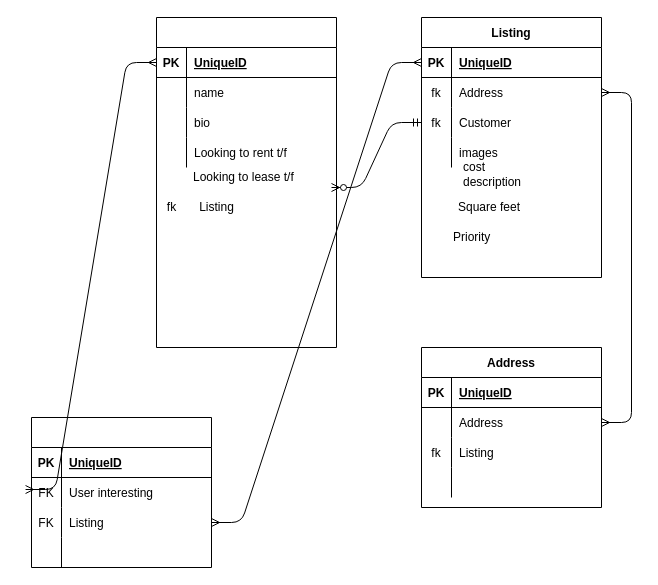
Image size: 658x585. Some labels were removed from this diagram. Each missing label, with the box of its shape:
Interested in renting: (30, 416, 212, 568)
User: (156, 16, 336, 348)
